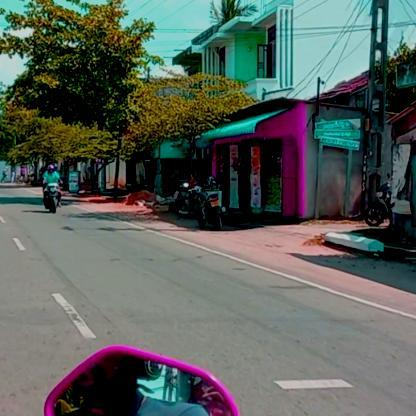motorcycle: (41, 182, 62, 214)
